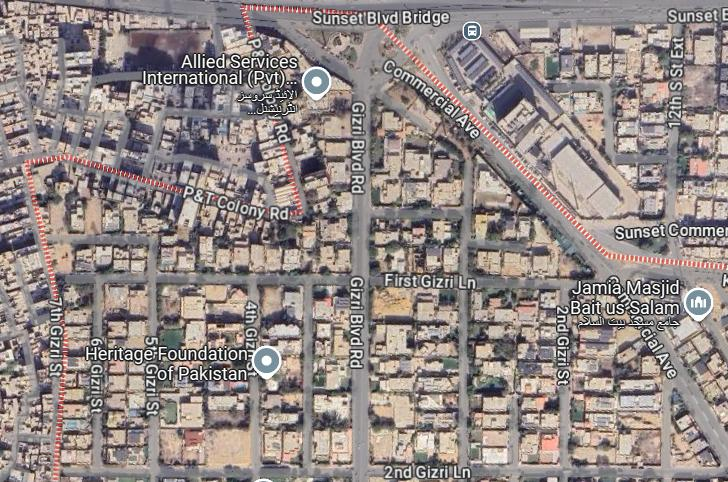Buildings: (32, 162, 319, 254), (248, 27, 354, 212), (568, 290, 666, 470), (468, 288, 561, 465), (159, 285, 250, 465), (372, 287, 459, 465), (470, 163, 596, 279), (372, 100, 464, 209), (102, 284, 150, 467), (260, 284, 308, 466), (311, 285, 356, 467), (53, 284, 97, 467), (370, 222, 460, 274), (47, 245, 149, 278)
